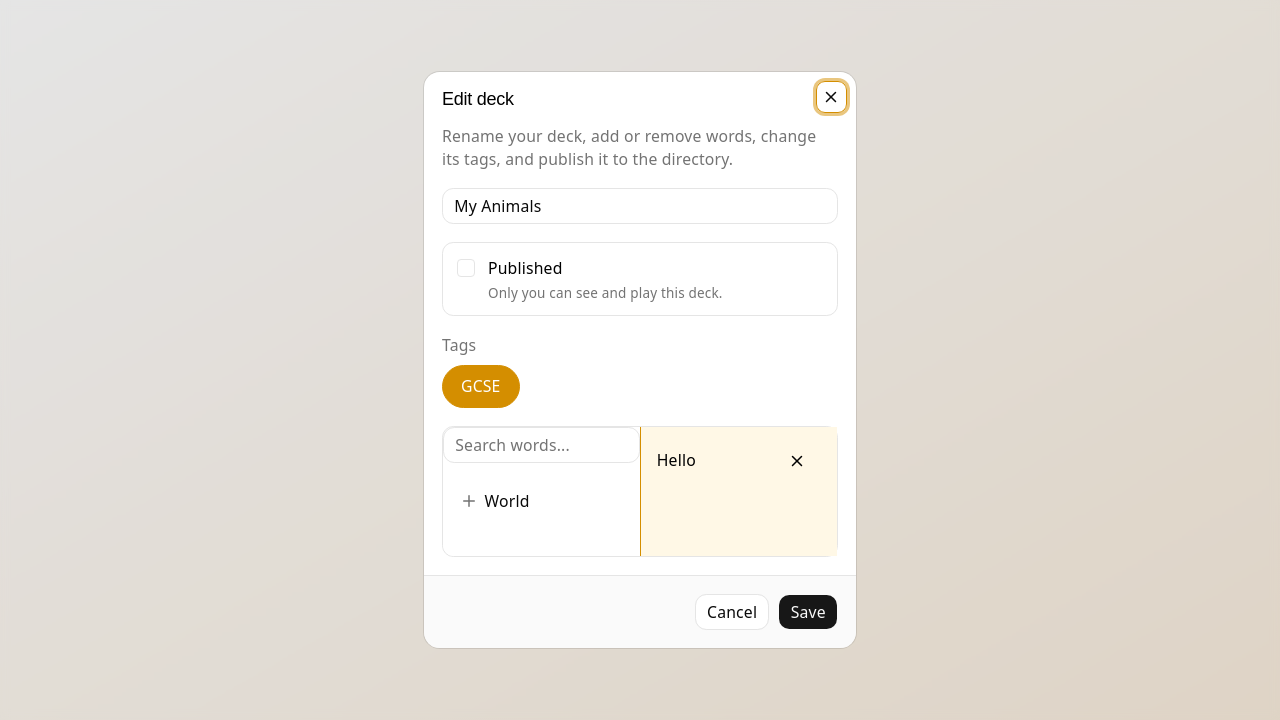
Test: EditDeckModal › disables the publish checkbox once the last word is removed, with a hint
Expected: the field showing "My Animals" is shown, left=442, top=188, right=838, bottom=224
Click the button named "remove hello". click: x=797, y=461
box: left=772, top=436, right=821, bottom=486
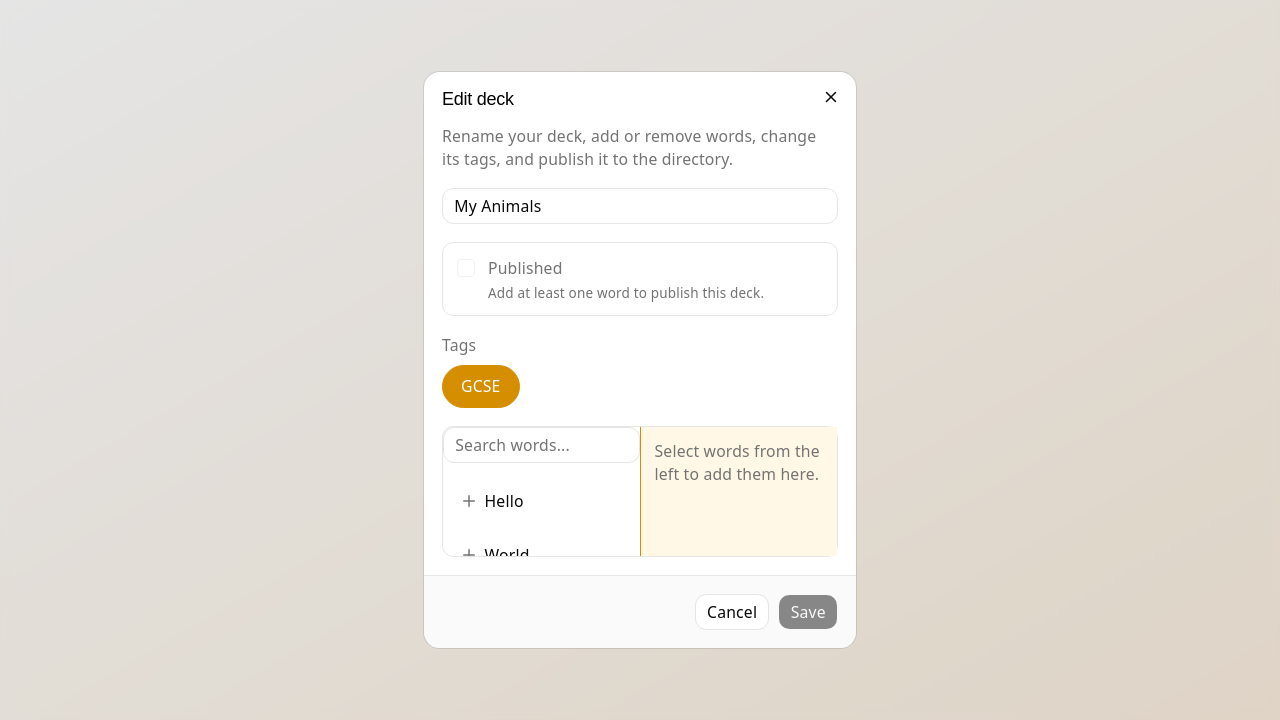
Expected: the text "Add at least one word to publish this deck." is shown, left=488, top=284, right=764, bottom=302
